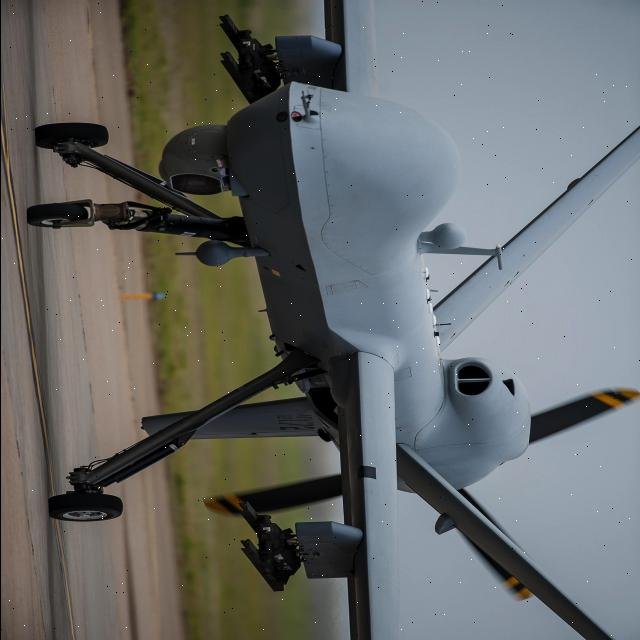MQ9: (30, 0, 632, 640)
